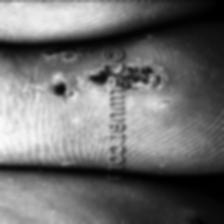Toxin: (122, 63, 168, 91), (41, 44, 96, 58), (82, 66, 104, 90), (52, 82, 76, 98)
